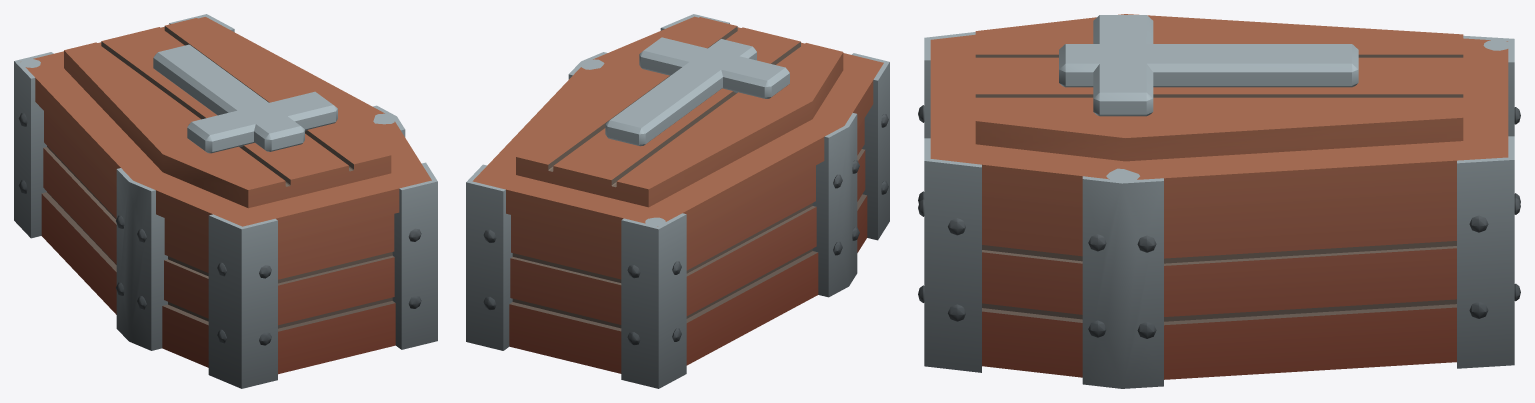
The model's file is coffin.glb.
3 views of the same model, side by side, from view 1: azimuth 30°, elevation 25°; view 2: azimuth 150°, elevation 25°; view 3: azimuth 270°, elevation 25° (orthographic). The views are drawn at different scales.
Parts seen in each view (by area): view 1: coffin; view 2: coffin; view 3: coffin.
Part boxes in pixels (box(x1,y1,x2,y2)): coffin: box(14, 14, 437, 388); coffin: box(466, 14, 889, 388); coffin: box(918, 14, 1520, 388).
Bounding box in the file's own units: 1.89 × 1.29 × 2.82.
1 material, 1 textured.
